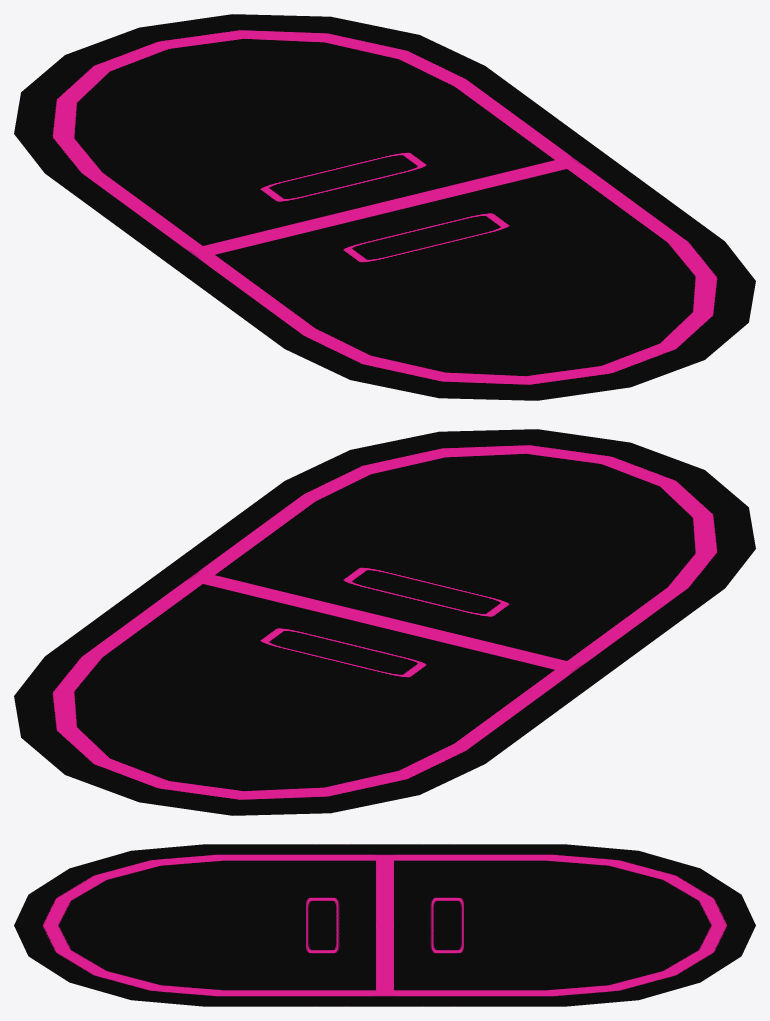
The model's file is board.fbx.
3 views of the same model, one above another, from view 1: azimuth 30°, elevation 25°; view 2: azimuth 150°, elevation 25°; view 3: azimuth 270°, elevation 25° (orthographic). The views are drawn at different scales.
Visible parts, largest first — view 1: board; view 2: board; view 3: board.
Part boxes in pixels (x1,y1,x2,y2): board: (14,14,755,400); board: (14,429,755,815); board: (14,844,755,1006).
Size of the model in its own units: 61.09 by 1.03e-05 by 118.
